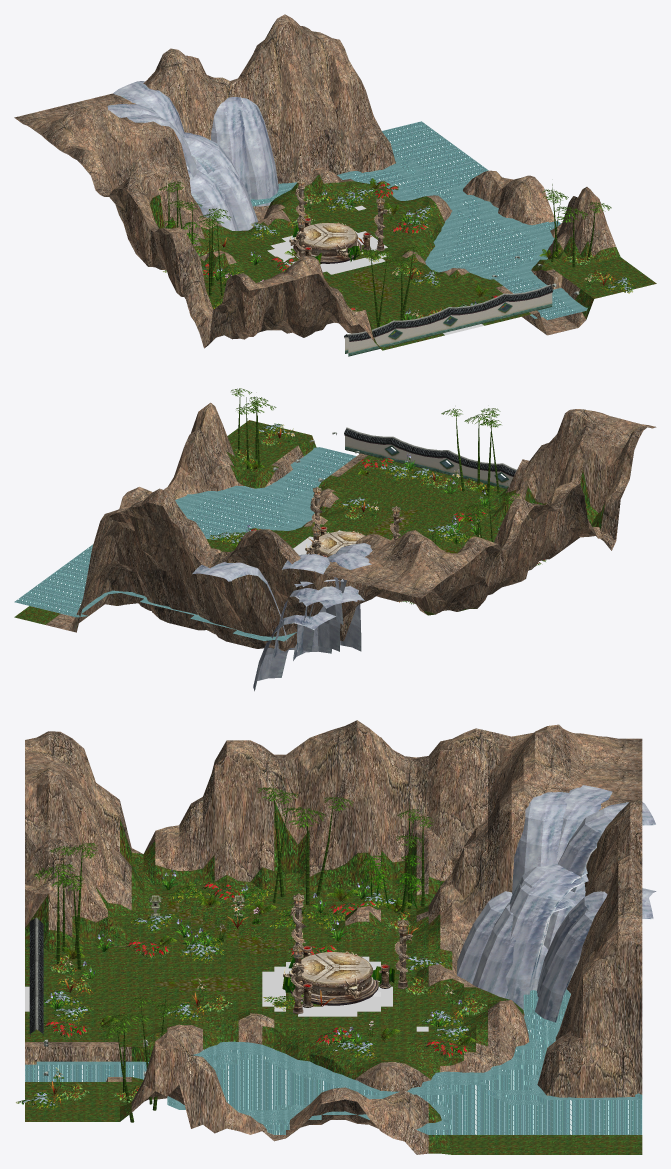
File: Fight4.FBX
3 renders of one model, top to bottom at view 1: azimuth 30°, elevation 25°; view 2: azimuth 150°, elevation 25°; view 3: azimuth 270°, elevation 25°, orthographic. The views are drawn at different scales.
Parts seen in each view (by area): view 1: 0.liquid|1, 4.terrain|0, 6.terrain|0, 14.terrain|0, 16.terrain|0, 24.terrain|0, 21.terrain|0, 1.terrain|0, 26.terrain|0, 30.terrain|0, 12.terrain|0, pubu2.mesh|0|208 (+30 smaller); view 2: 6.terrain|0, 0.liquid|1, 4.terrain|0, 21.terrain|0, 14.terrain|0, 24.terrain|0, 16.terrain|0, 26.terrain|0, 30.terrain|0, 31.terrain|0, 8.terrain|0, 33.terrain|0 (+25 smaller); view 3: 4.terrain|0, 0.liquid|1, 6.terrain|0, 21.terrain|0, 24.terrain|0, 14.terrain|0, 1.terrain|0, 26.terrain|0, 12.terrain|0, 16.terrain|0, 31.terrain|0, 30.terrain|0 (+36 smaller).
Part boxes in pixels (box(x1,y1,x2,y2)): 0.liquid|1: box(250, 121, 587, 320); 4.terrain|0: box(14, 33, 295, 266); 6.terrain|0: box(32, 53, 318, 276); 14.terrain|0: box(266, 14, 548, 220); 16.terrain|0: box(283, 14, 555, 225); 24.terrain|0: box(159, 227, 413, 347); 21.terrain|0: box(211, 260, 499, 350); 1.terrain|0: box(199, 191, 399, 303); 26.terrain|0: box(168, 229, 364, 348); 30.terrain|0: box(423, 257, 656, 321); 12.terrain|0: box(333, 184, 463, 256); pubu2.mesh|0|208: box(242, 98, 278, 206); 6.terrain|0: box(186, 499, 556, 651); 0.liquid|1: box(14, 447, 356, 641); 4.terrain|0: box(171, 498, 565, 651); 21.terrain|0: box(330, 463, 593, 546); 14.terrain|0: box(61, 486, 313, 632); 24.terrain|0: box(320, 409, 656, 551); 16.terrain|0: box(46, 488, 197, 628); 26.terrain|0: box(506, 414, 638, 569); 30.terrain|0: box(229, 420, 399, 516); 31.terrain|0: box(163, 402, 367, 520); 8.terrain|0: box(205, 534, 494, 635); 33.terrain|0: box(168, 403, 355, 511); 4.terrain|0: box(262, 720, 642, 1012); 0.liquid|1: box(25, 989, 642, 1134); 6.terrain|0: box(262, 720, 642, 1016); 21.terrain|0: box(25, 863, 262, 1024); 24.terrain|0: box(25, 731, 262, 1014); 14.terrain|0: box(262, 853, 642, 1154); 1.terrain|0: box(262, 872, 509, 1021); 26.terrain|0: box(25, 738, 262, 936); 12.terrain|0: box(274, 1021, 642, 1154); 16.terrain|0: box(286, 855, 642, 1137); 31.terrain|0: box(25, 1014, 262, 1134); 30.terrain|0: box(25, 1021, 226, 1121).
Bounding box in the file's own units: 5200 × 2476 × 5416.
